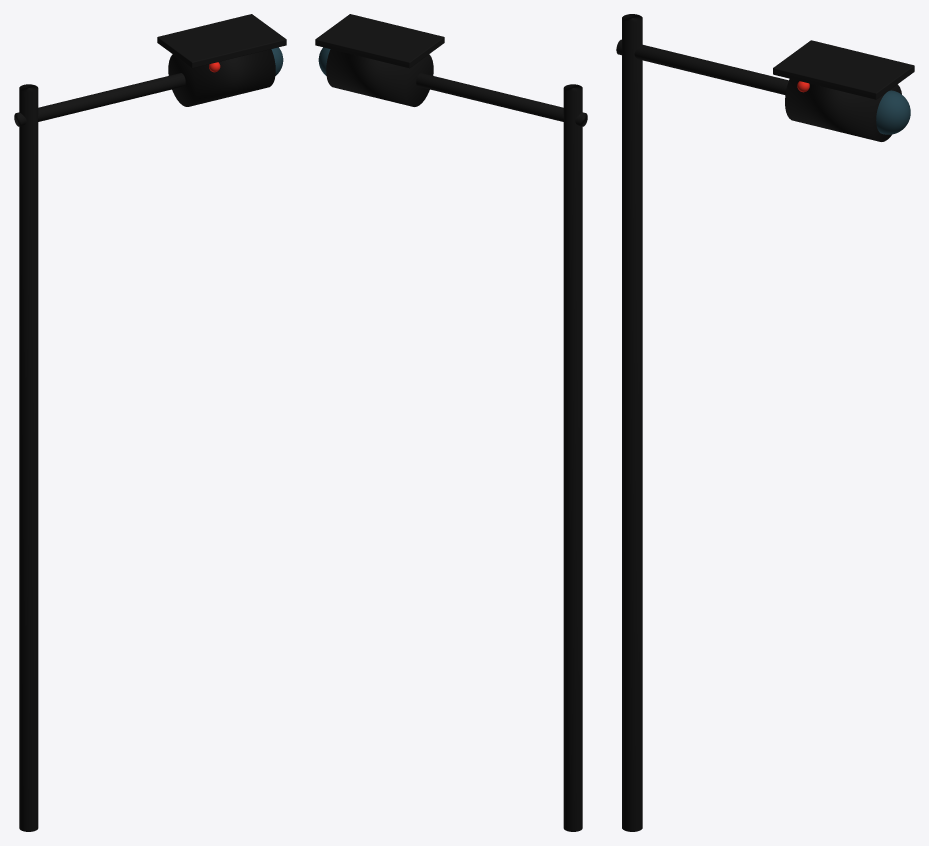
The model's file is cctv_bullet_rig_photoreal_proxy.fbx.
The picture shows the model from 3 angles, left to right: view 1: azimuth 30°, elevation 25°; view 2: azimuth 150°, elevation 25°; view 3: azimuth 330°, elevation 25°; orthographic projection. The views are drawn at different scales.
Visible parts, largest first — view 1: cctv_pole, cctv_sun_visor, cctv_bullet_housing, cctv_mast_arm; view 2: cctv_pole, cctv_sun_visor, cctv_bullet_housing, cctv_mast_arm; view 3: cctv_pole, cctv_sun_visor, cctv_bullet_housing, cctv_mast_arm, cctv_glass_lens.
Boxes of the visible parts, box(x1,y1,x2,y2) form: cctv_pole: box(19, 84, 38, 831); cctv_sun_visor: box(157, 14, 286, 68); cctv_bullet_housing: box(168, 49, 275, 106); cctv_mast_arm: box(14, 73, 185, 126); cctv_pole: box(563, 84, 582, 831); cctv_sun_visor: box(315, 14, 444, 68); cctv_bullet_housing: box(326, 49, 433, 106); cctv_mast_arm: box(416, 73, 587, 126); cctv_pole: box(622, 14, 642, 831); cctv_sun_visor: box(773, 40, 914, 99); cctv_bullet_housing: box(785, 79, 901, 141); cctv_mast_arm: box(616, 39, 788, 94); cctv_glass_lens: box(876, 90, 910, 134).
Size of the model in its own units: 238 by 643 by 55.
